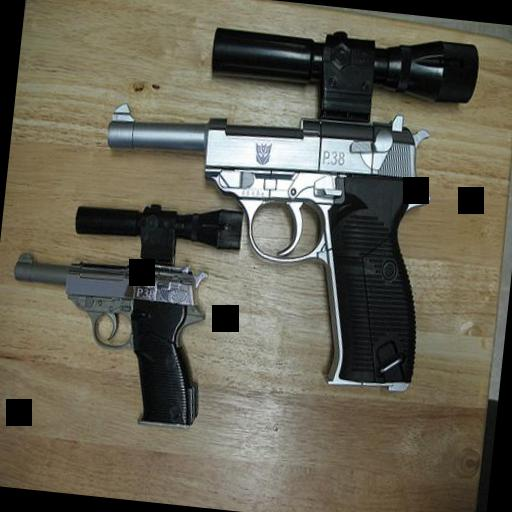Handgun: (80, 82, 436, 394), (0, 243, 214, 427)
